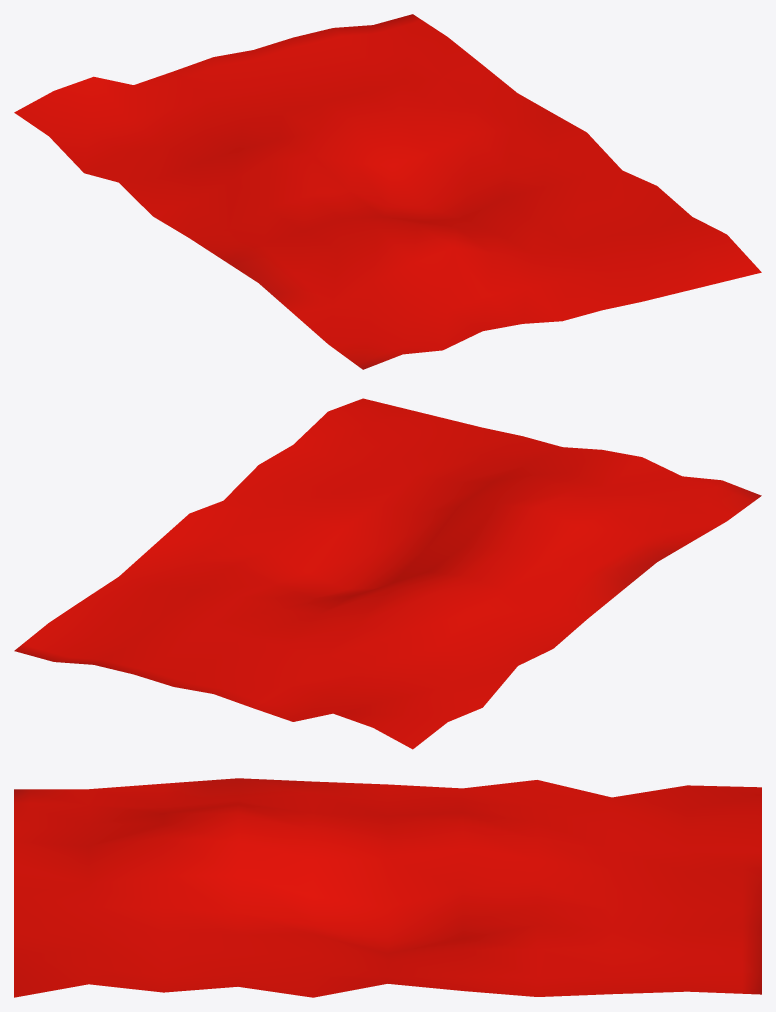
File: Wrapper2.fbx
3 views of the same model, one above another, from view 1: azimuth 30°, elevation 25°; view 2: azimuth 150°, elevation 25°; view 3: azimuth 270°, elevation 25° (orthographic). The views are drawn at different scales.
Visible parts, largest first — view 1: Wrapper2; view 2: Wrapper2; view 3: Wrapper2.
Boxes of the visible parts, x1,y1,x2,y2 form: Wrapper2: (14, 14, 761, 369); Wrapper2: (14, 398, 761, 749); Wrapper2: (14, 778, 761, 997).
Size of the model in its own units: 7.93 by 1.12 by 12.
